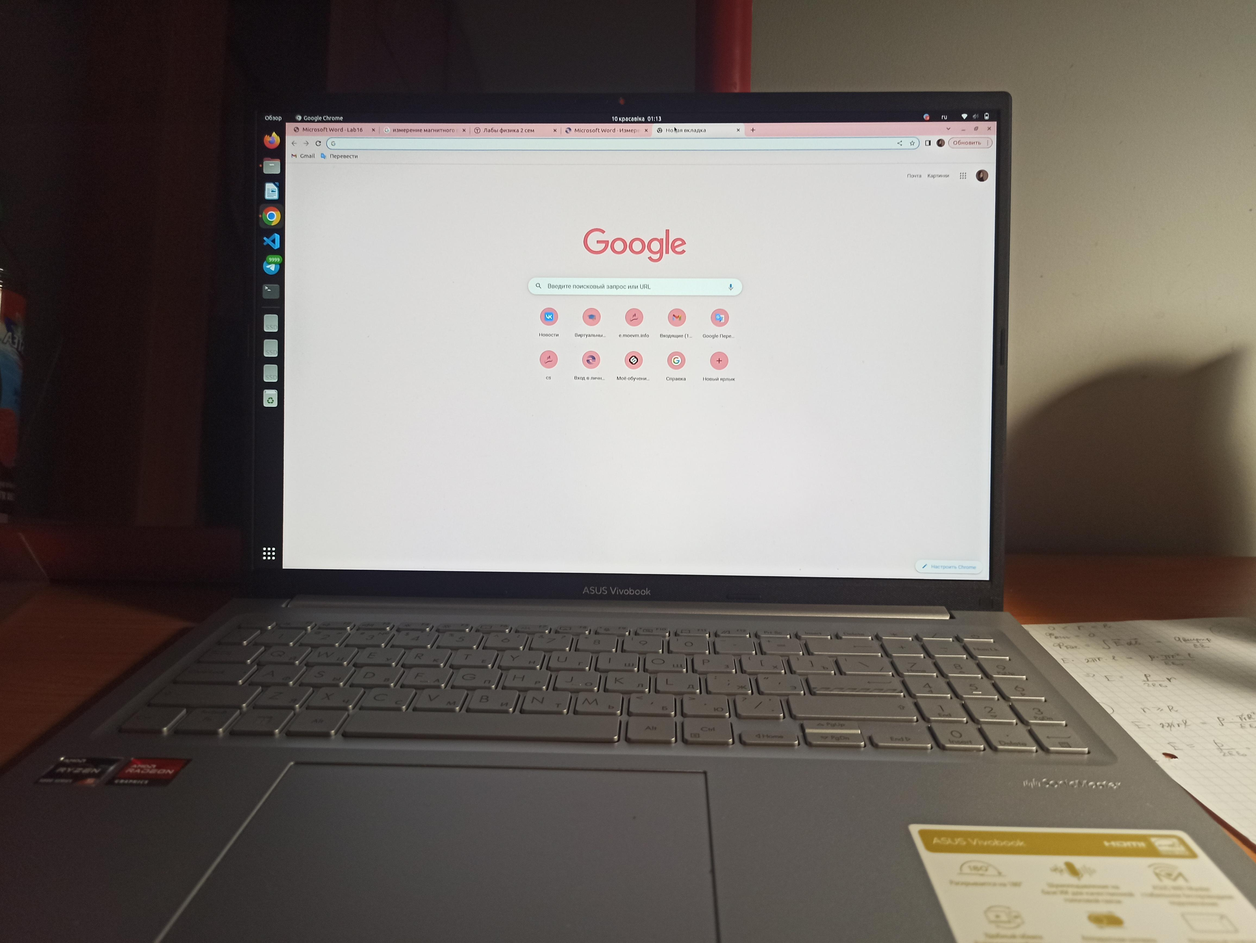monitor: (225, 88, 1018, 610)
